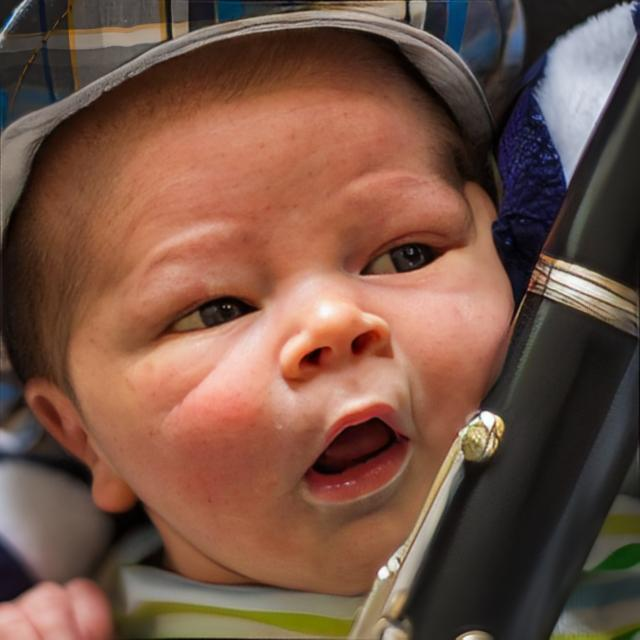Fear: (70, 22, 518, 600)
